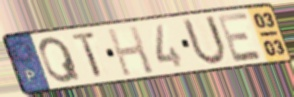4: (153, 22, 185, 69)
E: (215, 10, 266, 64)
H: (104, 23, 156, 78)
Q: (37, 35, 84, 85)
T: (70, 29, 105, 81)
U: (179, 14, 229, 68)
